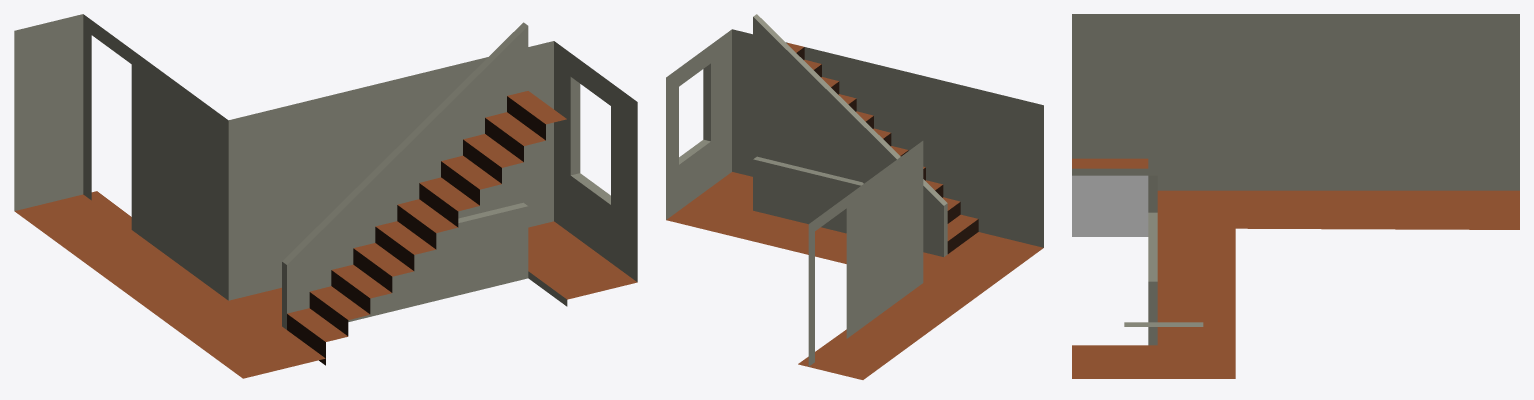
File: corridor.glb
3 renders of one model, left to right at view 1: azimuth 30°, elevation 25°; view 2: azimuth 150°, elevation 25°; view 3: azimuth 270°, elevation 25°, orthographic. The views are drawn at different scales.
Parts seen in each view (by area): view 1: corridor; view 2: corridor; view 3: corridor.
Part boxes in pixels (box(x1,y1,x2,y2)): corridor: box(14, 14, 637, 378); corridor: box(666, 14, 1043, 379); corridor: box(1072, 14, 1519, 378).
Size of the model in its own units: 5.86 by 3.5 by 5.75.
